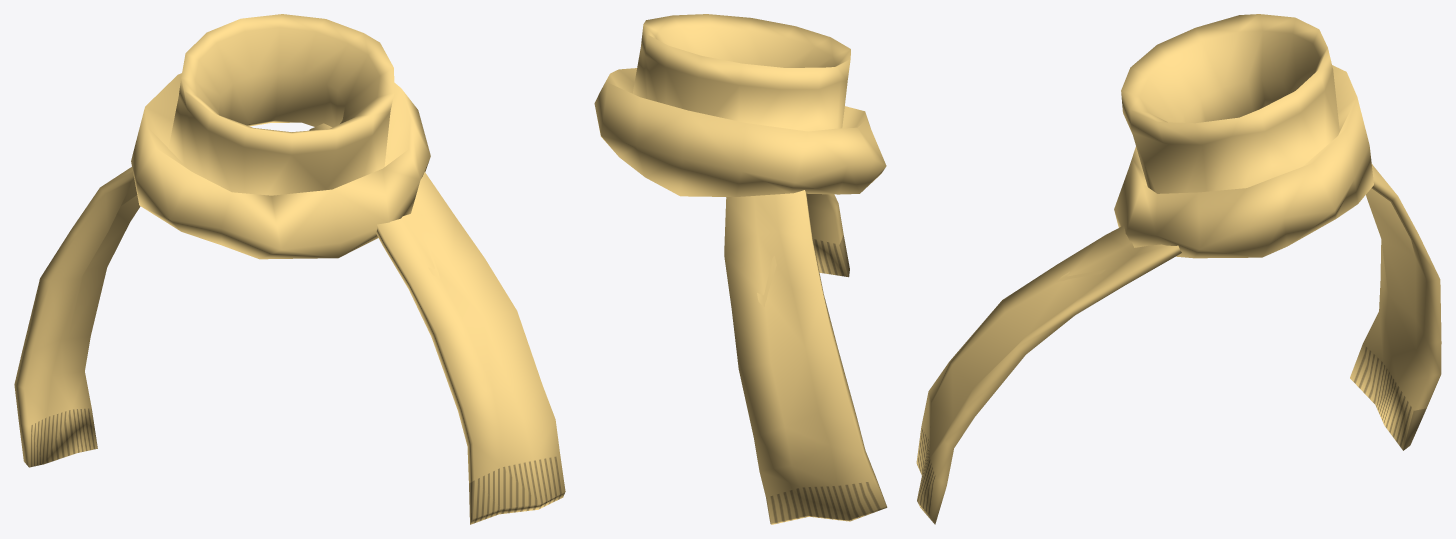
Rendered from scarf.fbx.
3 views of the same model, side by side, from view 1: azimuth 30°, elevation 25°; view 2: azimuth 150°, elevation 25°; view 3: azimuth 270°, elevation 25° (orthographic). The views are drawn at different scales.
Parts seen in each view (by area): view 1: カスタム少女_mesh; view 2: カスタム少女_mesh; view 3: カスタム少女_mesh.
Boxes of the visible parts, bbox=[...] form: カスタム少女_mesh: bbox=[14, 14, 565, 524]; カスタム少女_mesh: bbox=[594, 14, 887, 524]; カスタム少女_mesh: bbox=[916, 14, 1441, 524].
Bounding box in the file's own units: 32.77 × 39.08 × 40.45.
Materials: 2 (2 with a texture image).
